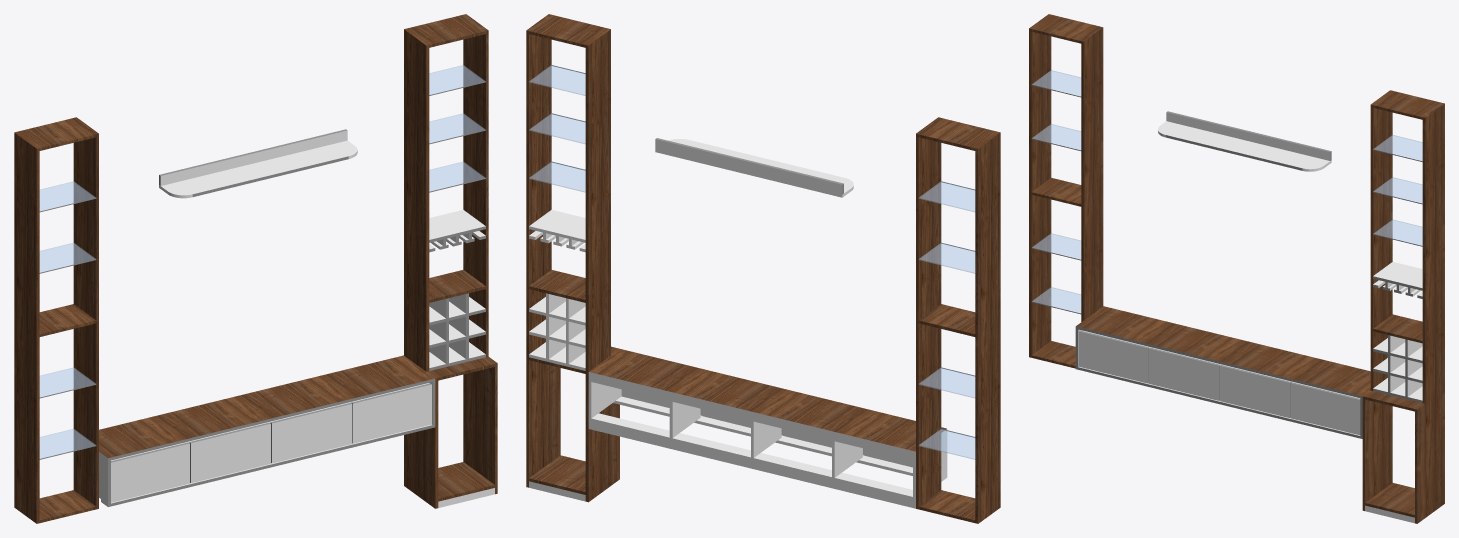
The model's file is porta-tv.glb.
The picture shows the model from 3 angles, left to right: view 1: azimuth 30°, elevation 25°; view 2: azimuth 150°, elevation 25°; view 3: azimuth 330°, elevation 25°; orthographic projection. The views are drawn at different scales.
Visible parts, largest first — view 1: root; view 2: root; view 3: root.
Part boxes in pixels (bbox=[...]): root: bbox=[14, 14, 497, 523]; root: bbox=[526, 14, 1000, 523]; root: bbox=[1029, 14, 1444, 523].
Size of the model in its own units: 2.9 by 2.8 by 0.35.
5 materials, 1 textured.
